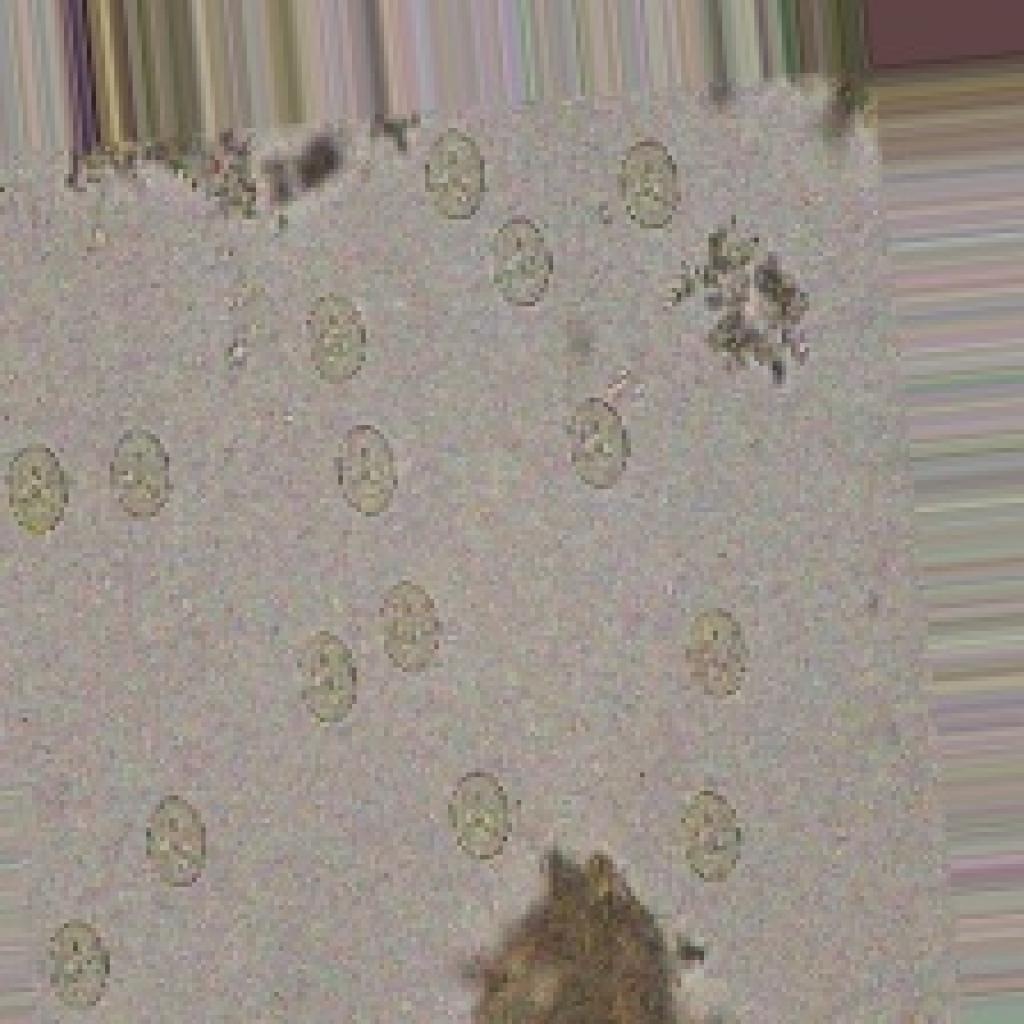Amoeba: (0, 78, 869, 1024)
